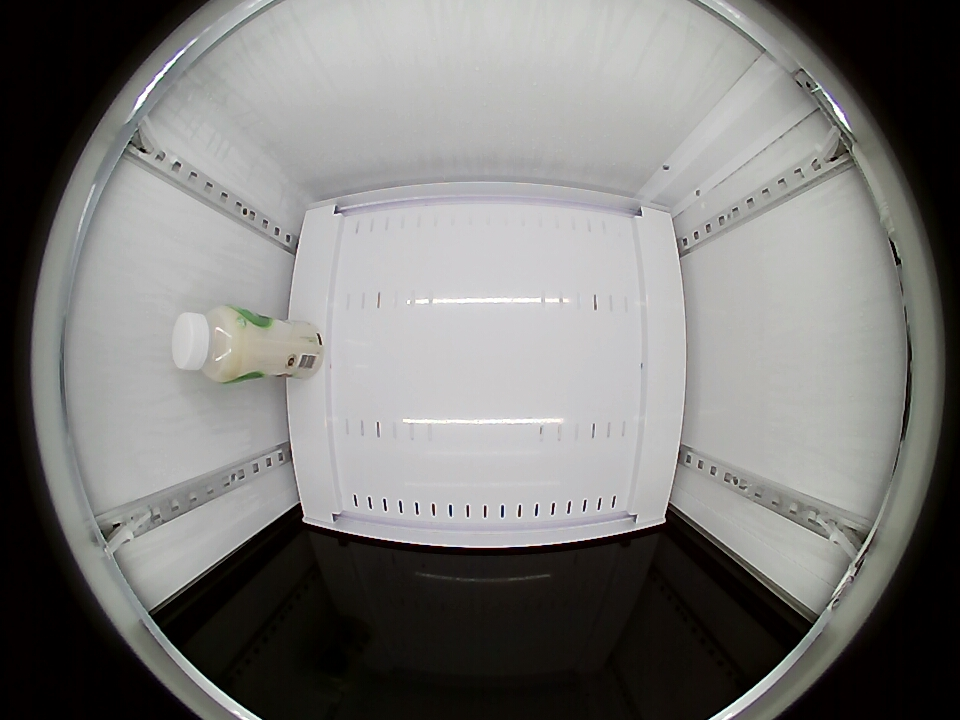yousuanru: (172, 305, 253, 384)
